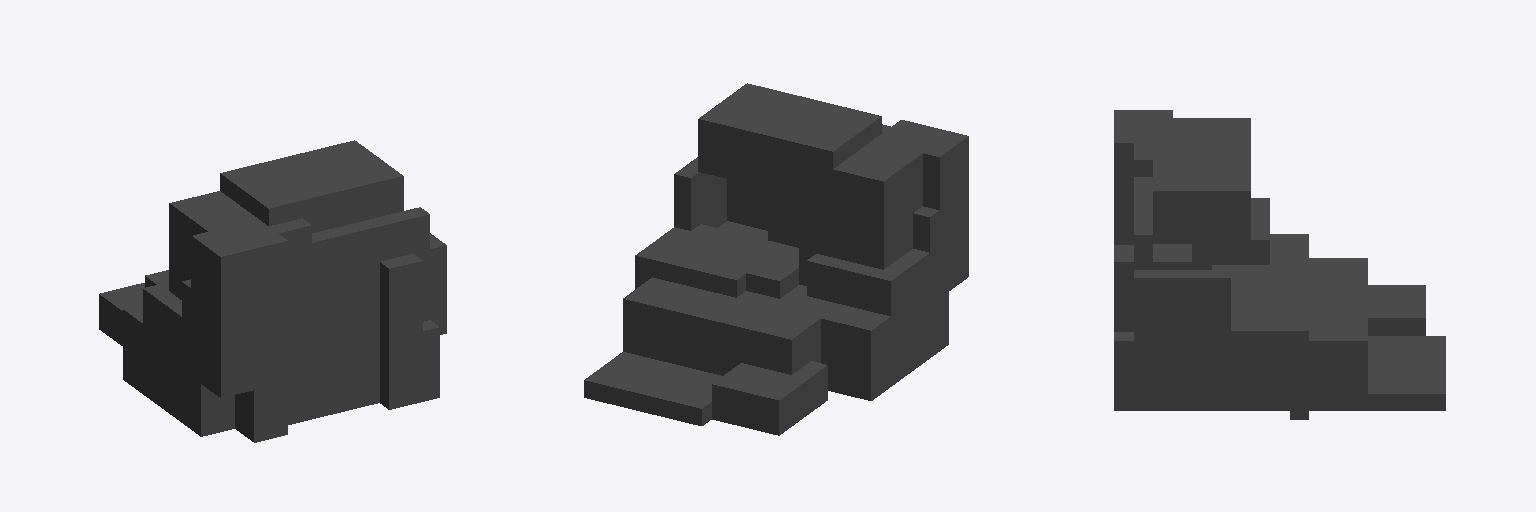
3 views of the same model, side by side, from view 1: azimuth 30°, elevation 25°; view 2: azimuth 150°, elevation 25°; view 3: azimuth 270°, elevation 25° (orthographic).
Parts seen in each view (by area): view 1: object 1; view 2: object 1; view 3: object 1.
Part boxes in pixels (left/top/right/bottom): object 1: left=99, top=140, right=446, bottom=442; object 1: left=584, top=83, right=968, bottom=435; object 1: left=1114, top=110, right=1445, bottom=419.
Size of the model in its own units: 1.4 by 1.2 by 1.7.
1 materials, 1 textured.